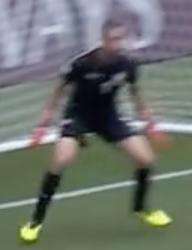goalkeeper: (6, 8, 192, 250)
